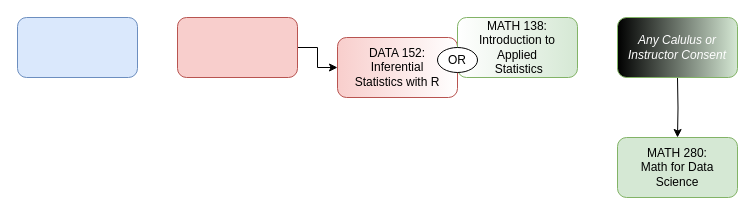
Image size: 755x215. Some labels were removed from this diagram. The shapes that lost their labels are listed below. From the top down, each one's box as (x1, y1, x2, y2) in pixels, then its label:
(16, 16, 138, 78): CS 151: Intro to Programming in Python
(176, 16, 298, 78): DATA 151: Intro to Data Science in R
